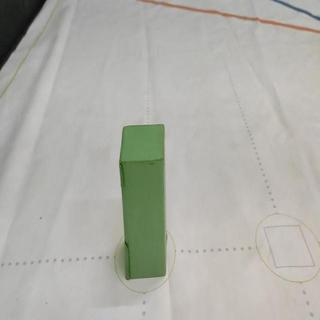greenbox: (120, 123, 169, 281)
